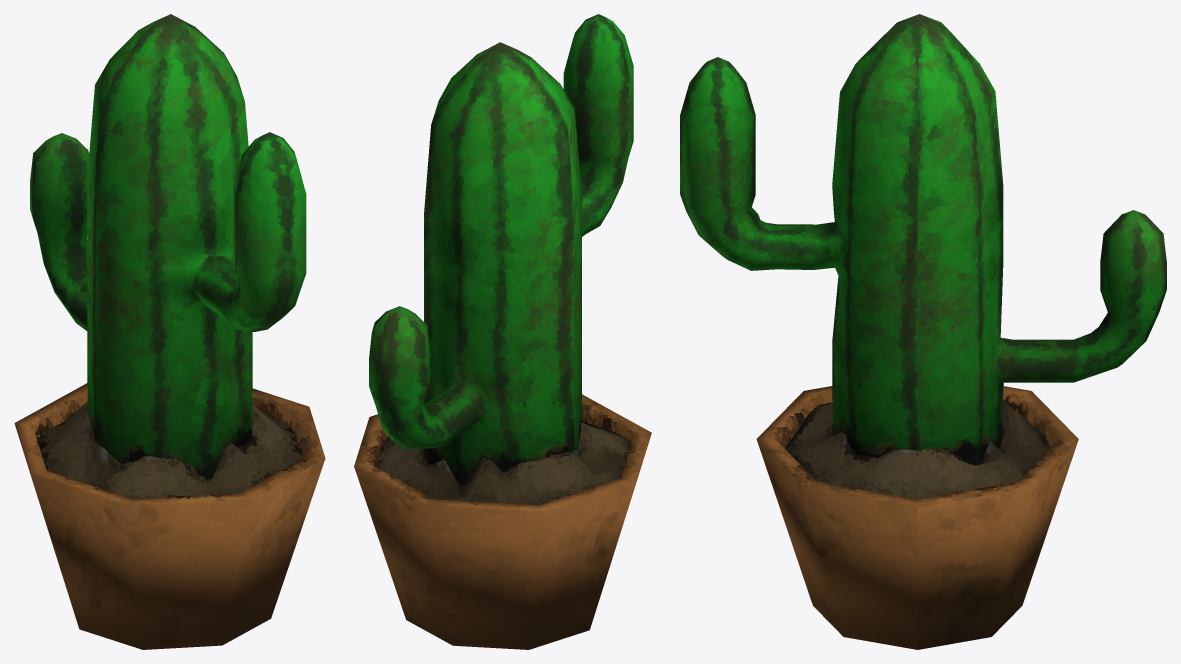
File: Cactus.fbx
The picture shows the model from 3 angles, left to right: view 1: azimuth 30°, elevation 25°; view 2: azimuth 150°, elevation 25°; view 3: azimuth 270°, elevation 25°; orthographic projection. The views are drawn at different scales.
Visible parts, largest first — view 1: Landscape; view 2: Landscape; view 3: Landscape.
Boxes of the visible parts, x1,y1,x2,y2 form: Landscape: (14,14,325,649); Landscape: (354,14,651,649); Landscape: (680,14,1166,649).
Size of the model in its own units: 46.64 by 94.62 by 70.45.
1 material, 1 textured.
